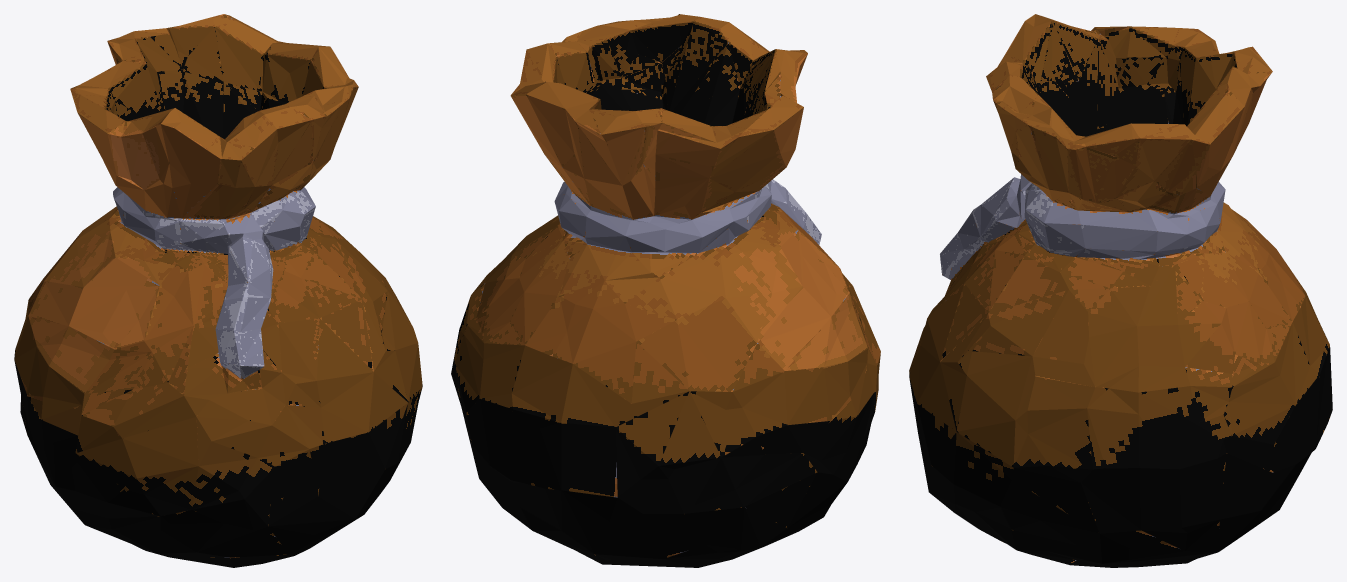
The picture shows the model from 3 angles, left to right: view 1: azimuth 30°, elevation 25°; view 2: azimuth 150°, elevation 25°; view 3: azimuth 270°, elevation 25°; orthographic projection. The views are drawn at different scales.
Parts seen in each view (by area): view 1: OBJ086; view 2: OBJ086; view 3: OBJ086.
Part boxes in pixels (x1,y1,x2,y2): OBJ086: (14,14,422,567); OBJ086: (451,14,880,567); OBJ086: (909,14,1332,567).
Bounding box in the file's own units: 0.1705 × 0.2111 × 0.1693.
Materials: 1 (1 with a texture image).
